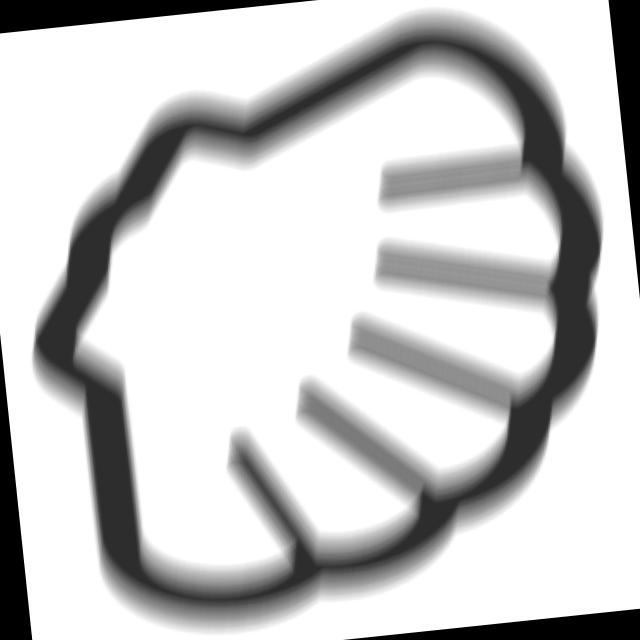shell: (1, 1, 640, 640)
